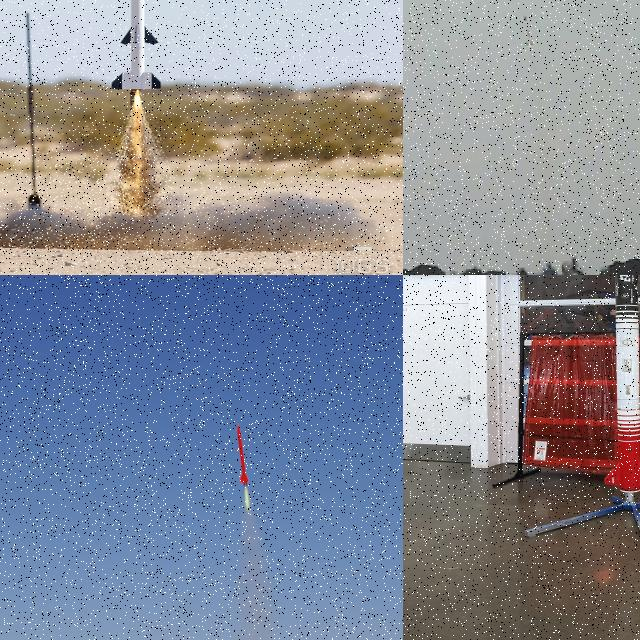Rocket: (604, 275, 640, 493), (110, 0, 162, 90), (236, 422, 250, 486), (522, 15, 534, 48)
